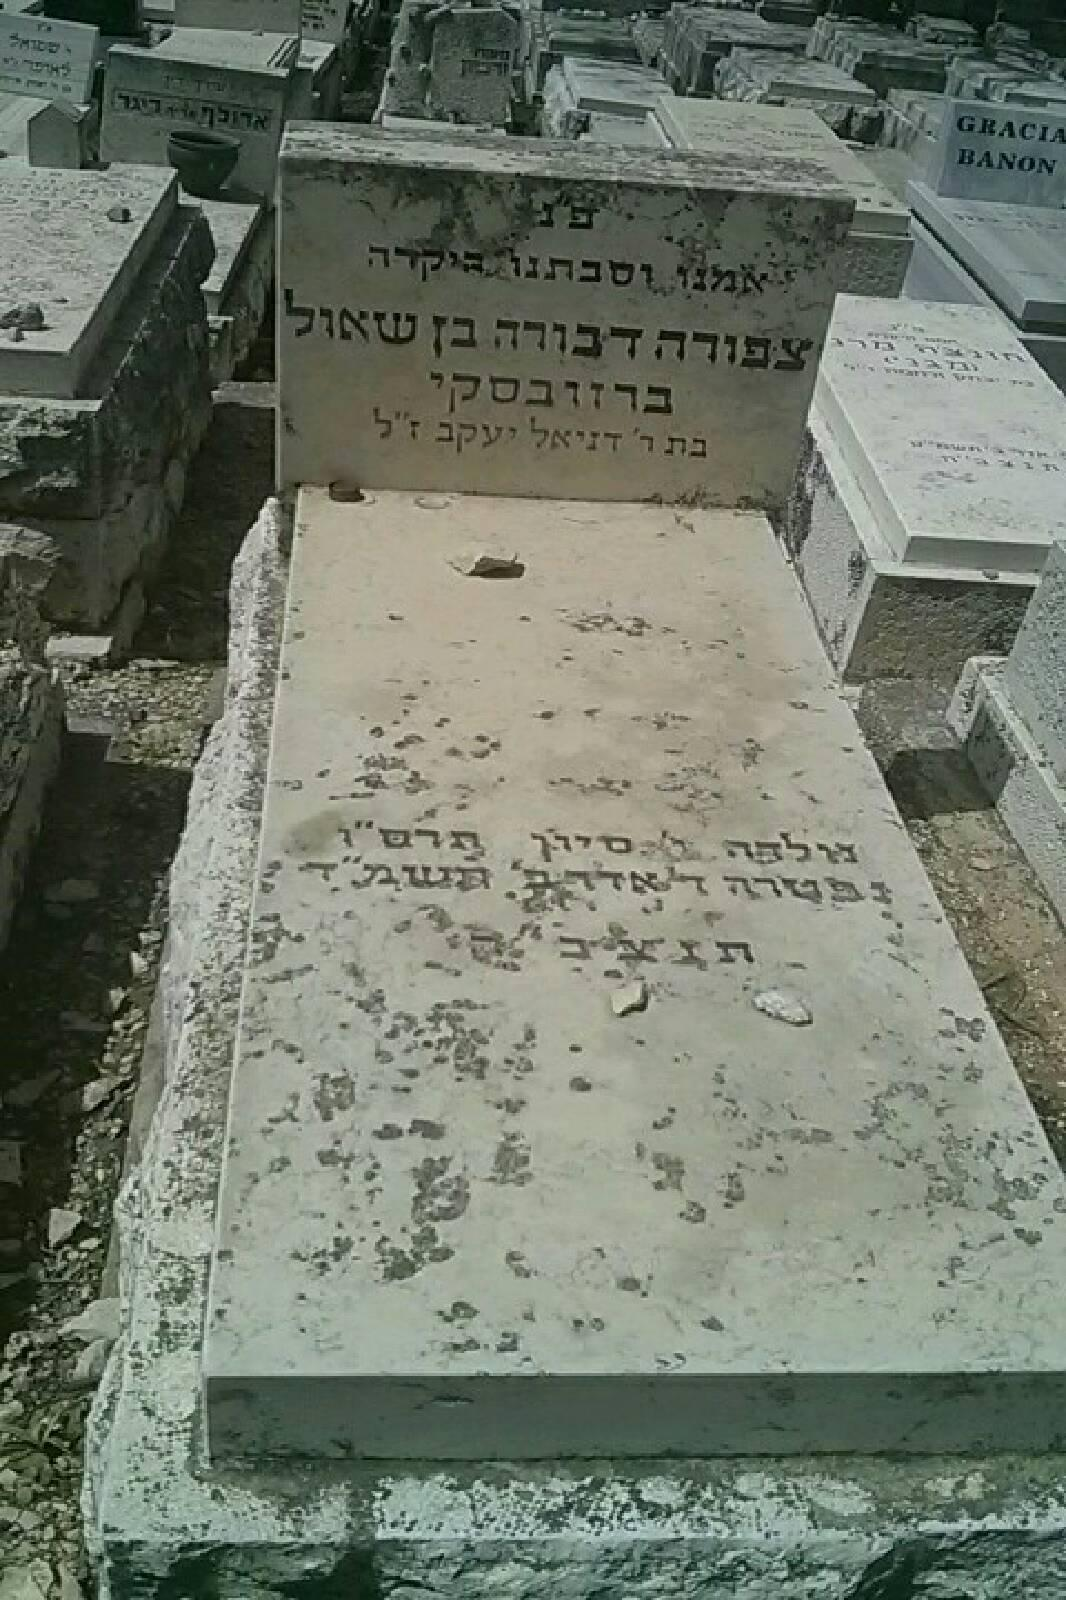vault: (49, 32, 1026, 1588)
